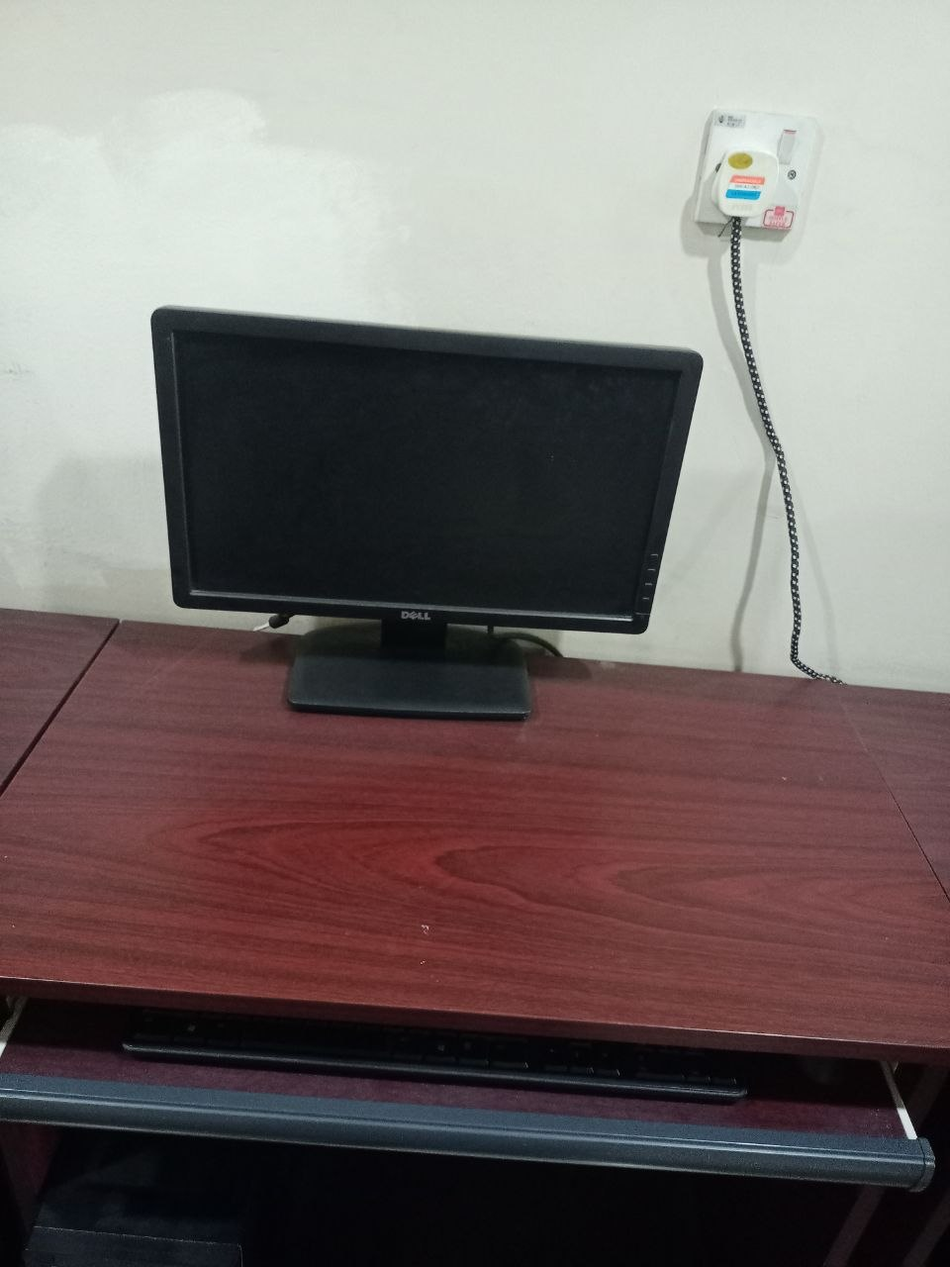computer monitor: (152, 308, 701, 716)
